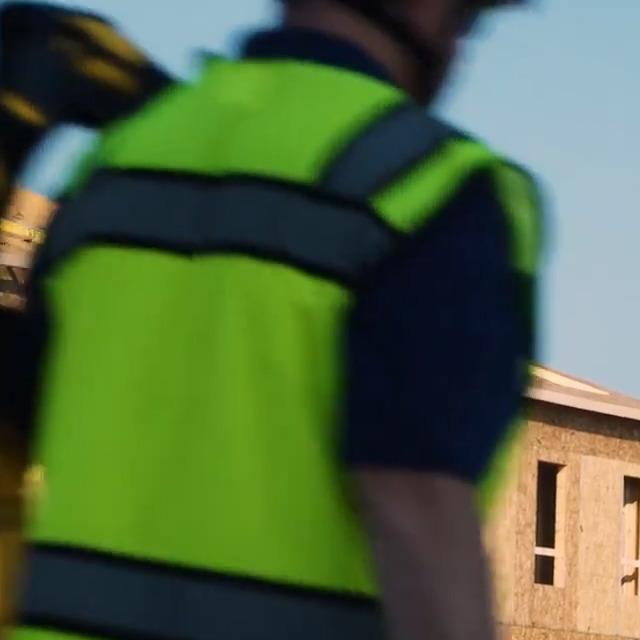Person: (6, 0, 526, 640)
Safety Vest: (10, 55, 543, 640)
